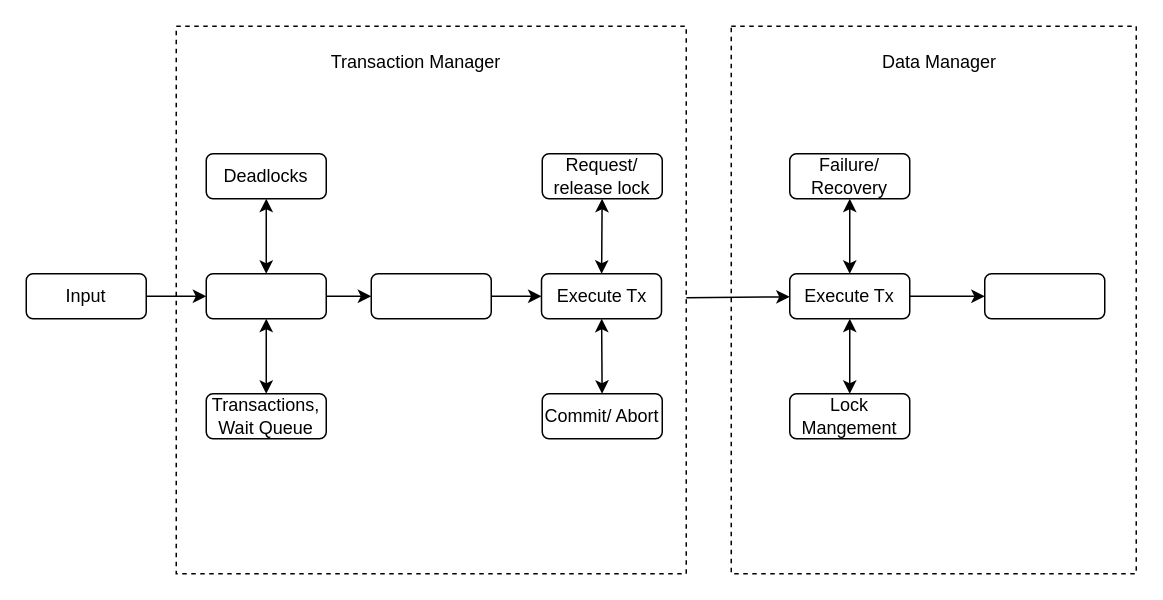
The diagram is 1163 pixels wide and 600 high, and some of its shapes have lost their labels. The centre of each missing label's shape, as x and y in pixels:
Parse Input: the point at 265,295
Read/ Write: the point at 1044,295
Route Tx: the point at 430,295
